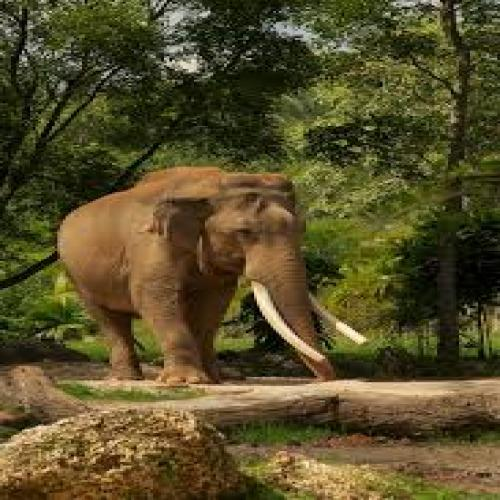asian_elephant-endangered: (56, 166, 368, 383)
